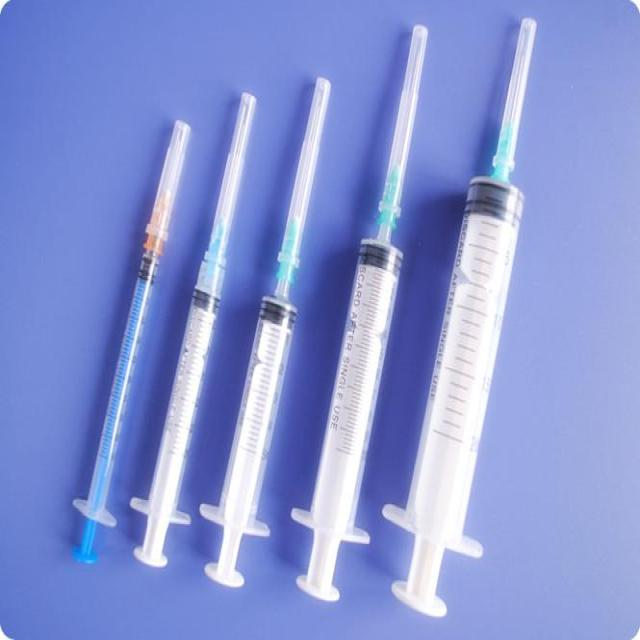syringe: (381, 15, 537, 617), (290, 21, 429, 603), (198, 73, 331, 588), (129, 89, 257, 568), (71, 116, 192, 564)
